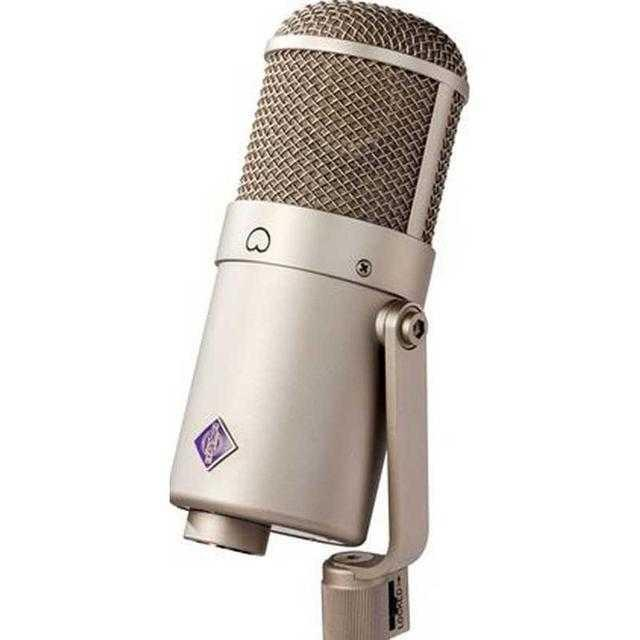microphone: (172, 0, 464, 580)
